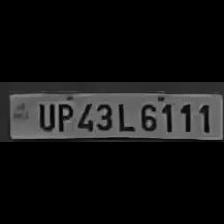1: (193, 101, 213, 133), (158, 100, 176, 134), (175, 100, 193, 134)
3: (93, 101, 113, 131)
4: (74, 100, 94, 132)
6: (136, 101, 158, 133)
L: (114, 100, 134, 132)
P: (54, 101, 72, 131)
U: (34, 101, 54, 131)
